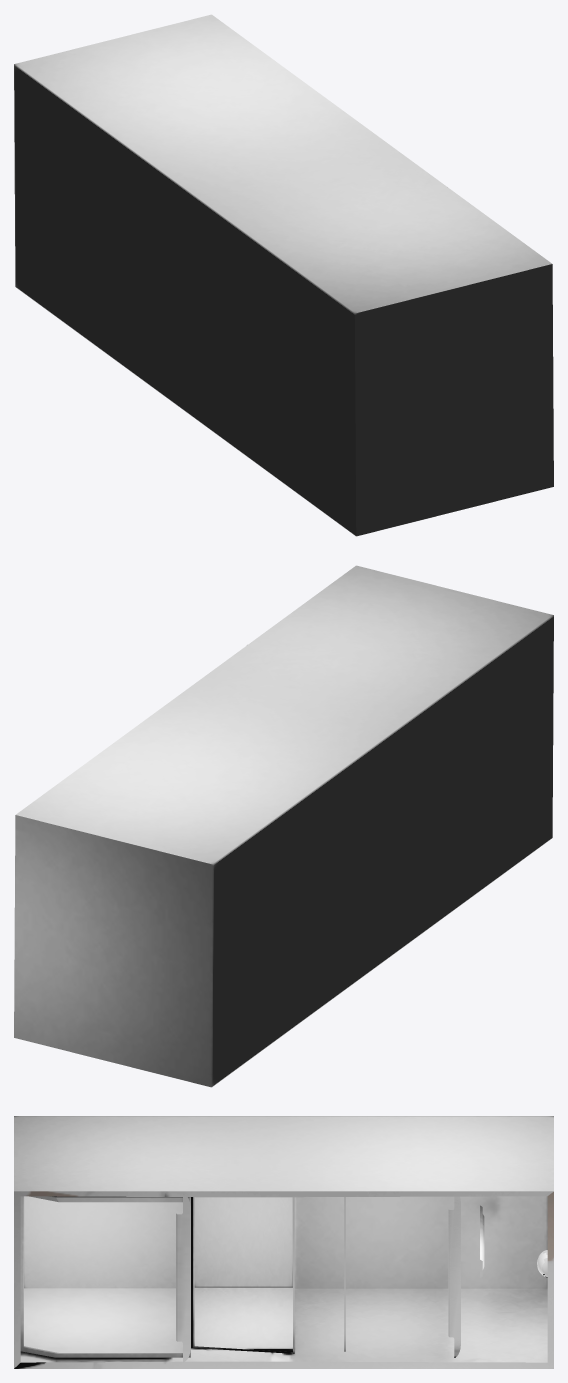
The model's file is body_brighter2.glb.
3 views of the same model, one above another, from view 1: azimuth 30°, elevation 25°; view 2: azimuth 150°, elevation 25°; view 3: azimuth 270°, elevation 25° (orthographic). The views are drawn at different scales.
Parts seen in each view (by area): view 1: frl_apartment_refrigerator; view 2: frl_apartment_refrigerator; view 3: frl_apartment_refrigerator.
Boxes of the visible parts, box(x1,y1,x2,y2) form: frl_apartment_refrigerator: box(14, 14, 553, 536); frl_apartment_refrigerator: box(14, 565, 553, 1087); frl_apartment_refrigerator: box(14, 1116, 553, 1368).
Bounding box in the file's own units: 0.6497 × 0.6973 × 1.92.
Materials: 2 (2 with a texture image).
